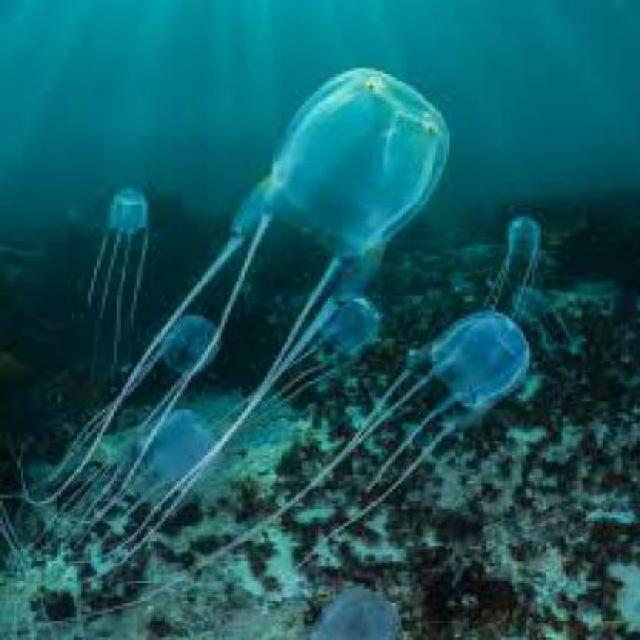Jellyfish: (222, 34, 449, 262), (398, 298, 526, 476), (276, 262, 375, 384), (80, 162, 148, 327), (153, 302, 219, 398), (484, 190, 541, 296)
